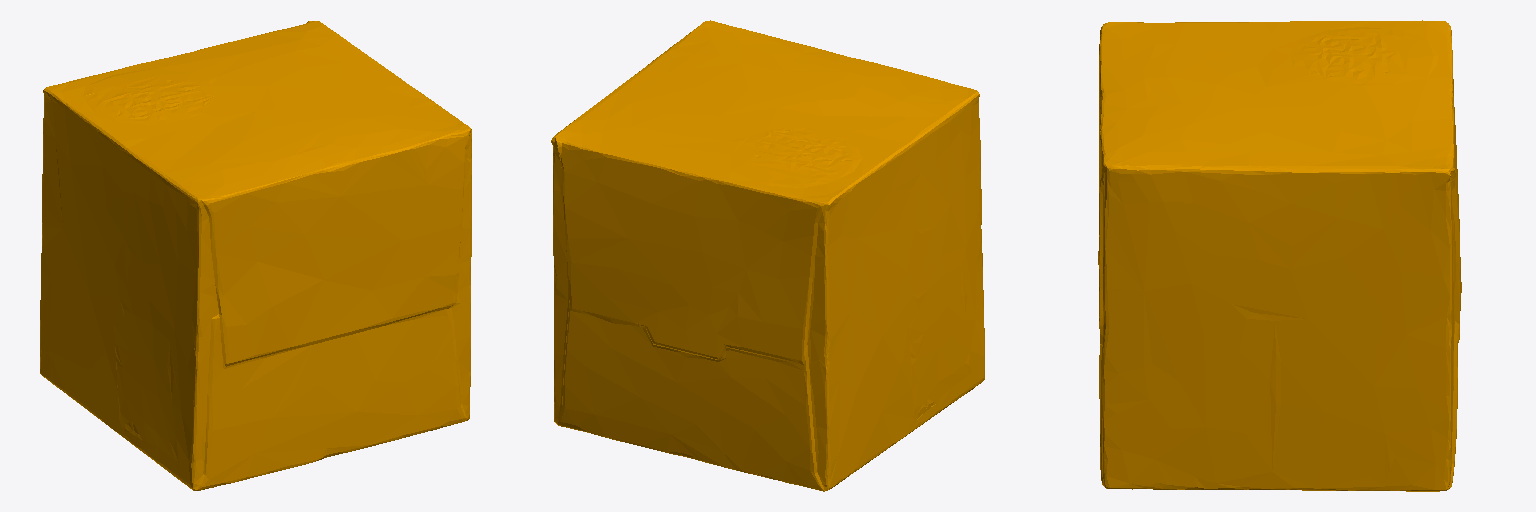
robot.urdf — model.urdf:
<?xml version="0.0" ?>
<robot name="model.urdf">
  <link name="baseLink">
    <visual>
			<origin xyz="0 0 0" rpy="-1.57 0 0"/>
      <geometry>
        <mesh filename="model.obj" scale="1 1 1"/>
      </geometry>
      <material name="white">
        <texture filename="assets/urdf_models/models/Nescafe_16Count_Dolce_Gusto_Cappuccino_Capsules_5/texture.png"/>
      </material>
    </visual>
    <collision>
      <geometry>
    	 	<mesh filename="model.obj" scale="1 1 1"/>
      </geometry>
    </collision>
    <inertial>
			<mass value="0.530"/>
			<inertia  ixx="0.0013473" ixy="0.00" ixz="0.00" iyy="0.0013473" iyz="0.00" izz="0.0013582" />
		</inertial>
  </link>
</robot>

--- Render facts (derived) ---
Views: 3 orthographic renders of the robot side by side, from view 1: azimuth 30°, elevation 25°; view 2: azimuth 150°, elevation 25°; view 3: azimuth 270°, elevation 25°.
Robot: model.urdf — 1 links, 0 joints (none); root link baseLink; default pose: all joints at 0.
Visible links, largest first — view 1: baseLink; view 2: baseLink; view 3: baseLink.
Boxes of the visible links, x1,y1,x2,y2 form: baseLink: (40, 21, 471, 490); baseLink: (551, 20, 984, 491); baseLink: (1098, 20, 1461, 491).
Size in the robot's own frame: 0.1238 by 0.1226 by 0.124 metres.
1 mesh visuals loaded from 1 distinct referenced files (1 OBJ).